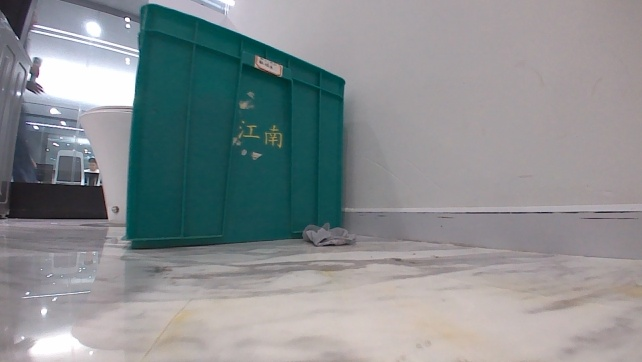socks: (302, 221, 358, 250)
toilet: (75, 102, 128, 227)
